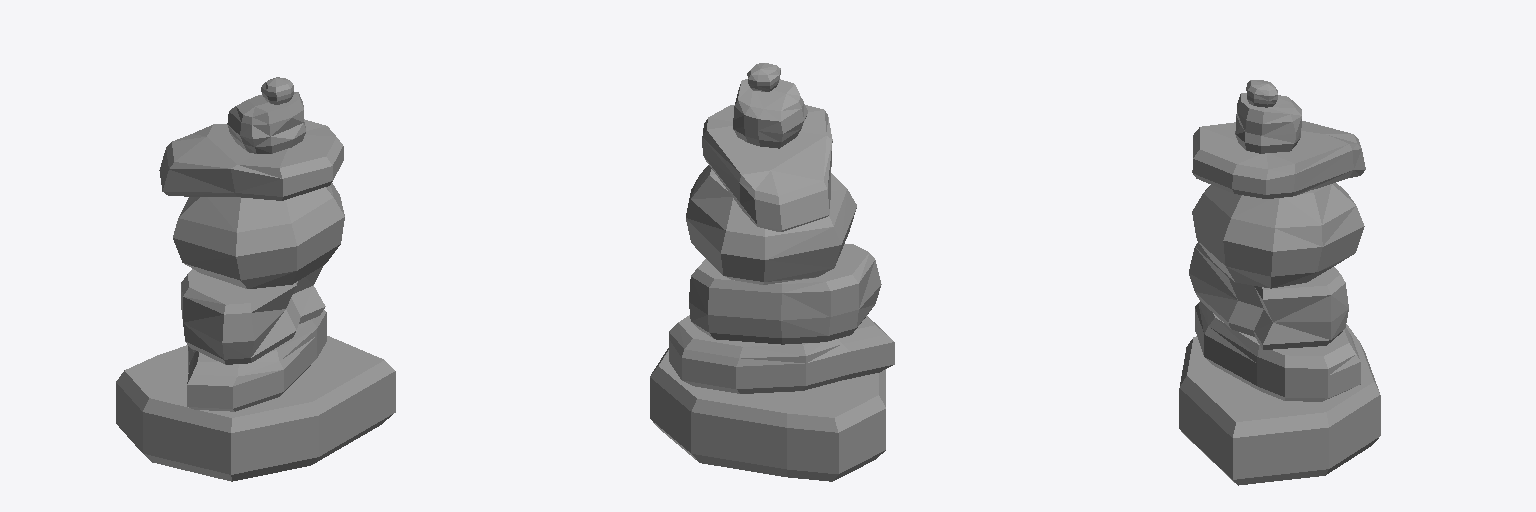
The model's file is cairn.obj.
3 views of the same model, side by side, from view 1: azimuth 30°, elevation 25°; view 2: azimuth 150°, elevation 25°; view 3: azimuth 270°, elevation 25° (orthographic).
Visible parts, largest first — view 1: Cube_Cube.001; view 2: Cube_Cube.001; view 3: Cube_Cube.001.
Boxes of the visible parts, box(x1,y1,x2,y2) form: Cube_Cube.001: box(116, 77, 395, 481); Cube_Cube.001: box(650, 63, 894, 481); Cube_Cube.001: box(1179, 80, 1380, 485).
Size of the model in its own units: 6.24 by 9.21 by 4.69.